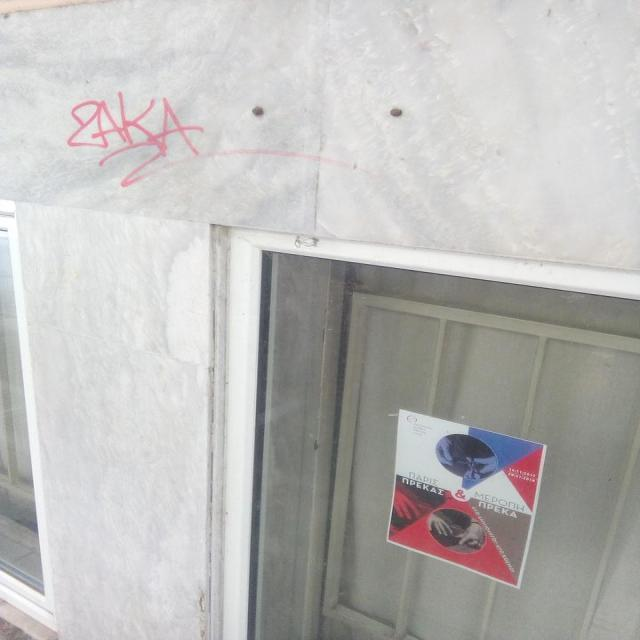nonspitting: (67, 91, 356, 190)
